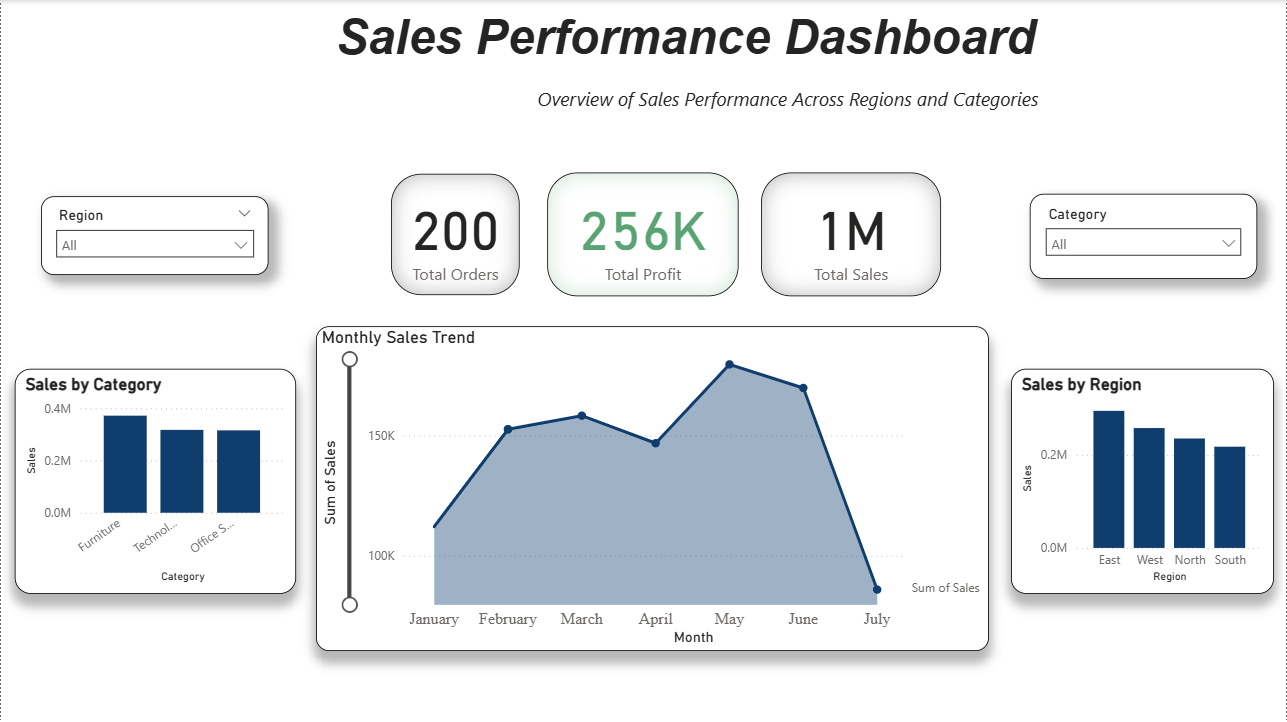

What the dashboard file says about the page in this screenshot:
{"tool":"powerbi","page":{"name":"Page 1","canvas":[1280,720],"ordinal":0},"visuals":[{"type":"card","fields":{"Values":["sales_dataset_powerbi.Total Orders"]},"box":[388.1,172.9,128.1,120.7],"z":0},{"type":"card","fields":{"Values":["sales_dataset_powerbi.Total Profit"]},"box":[543.6,171.7,190.3,123.2],"z":1000},{"type":"card","fields":{"Values":["sales_dataset_powerbi.Total Sales"]},"box":[756.3,171.7,179.1,123.2],"z":2000},{"type":"lineChart","title":"Monthly Sales Trend","fields":{"Y":["Sum(sales_dataset_powerbi.Sales)"],"Category":["sales_dataset_powerbi.Order Date.Variation.Date Hierarchy.Month"]},"box":[313.5,324.7,669.3,323.4],"z":3000},{"type":"columnChart","title":"Sales by Category","fields":{"Category":["sales_dataset_powerbi.Category"],"Y":["Sum(sales_dataset_powerbi.Sales)"]},"box":[13.7,367,279.9,223.9],"z":4000},{"type":"columnChart","title":"Sales by Region","fields":{"Category":["sales_dataset_powerbi.Region"],"Y":["Sum(sales_dataset_powerbi.Sales)"]},"box":[1005.1,367,261.2,223.9],"z":5000},{"type":"slicer","fields":{"Values":["sales_dataset_powerbi.Region"]},"box":[39.8,195.3,226.4,78.4],"z":6000},{"type":"slicer","fields":{"Values":["sales_dataset_powerbi.Category"]},"box":[1023.8,192.8,226.4,84.6],"z":7000},{"type":"textbox","box":[528.6,81.4,675.7,38.6],"z":7002},{"type":"textbox","box":[312.9,0,741.4,81.4],"z":7003}]}

Visuals, with their boxes in screenshot pixels (x1, y1, x2, y2), scaled from the page's 1280x720 canvas onto the 1287x722 screenshot:
card - sales_dataset_powerbi.Total Orders: <bbox>390, 173, 519, 294</bbox>
card - sales_dataset_powerbi.Total Profit: <bbox>547, 172, 738, 296</bbox>
card - sales_dataset_powerbi.Total Sales: <bbox>760, 172, 941, 296</bbox>
"Monthly Sales Trend" lineChart: <bbox>315, 326, 988, 650</bbox>
"Sales by Category" columnChart: <bbox>14, 368, 295, 593</bbox>
"Sales by Region" columnChart: <bbox>1011, 368, 1273, 593</bbox>
slicer - sales_dataset_powerbi.Region: <bbox>40, 196, 268, 274</bbox>
slicer - sales_dataset_powerbi.Category: <bbox>1029, 193, 1257, 278</bbox>
textbox: <bbox>531, 82, 1211, 120</bbox>
textbox: <bbox>315, 0, 1060, 82</bbox>
